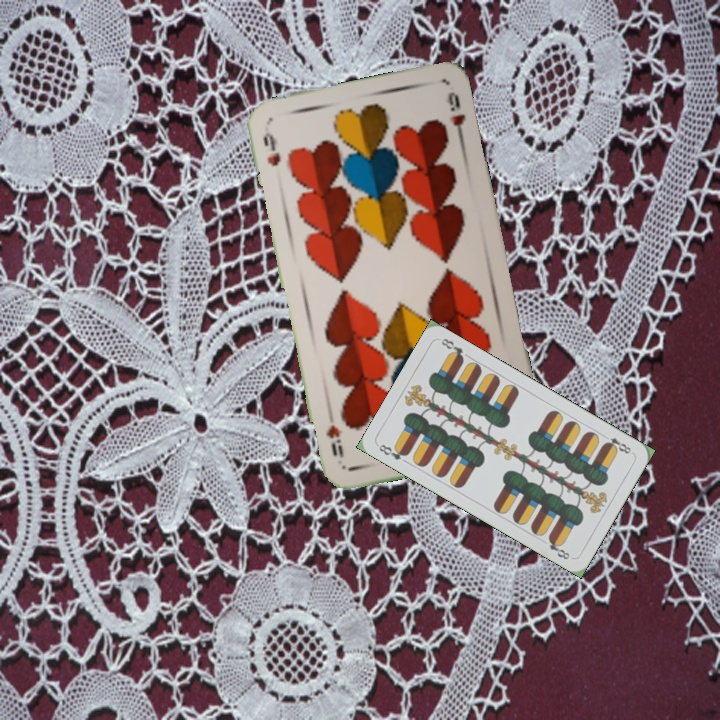E8: (598, 430, 635, 457), (375, 440, 411, 463)
H9: (259, 128, 283, 169)
